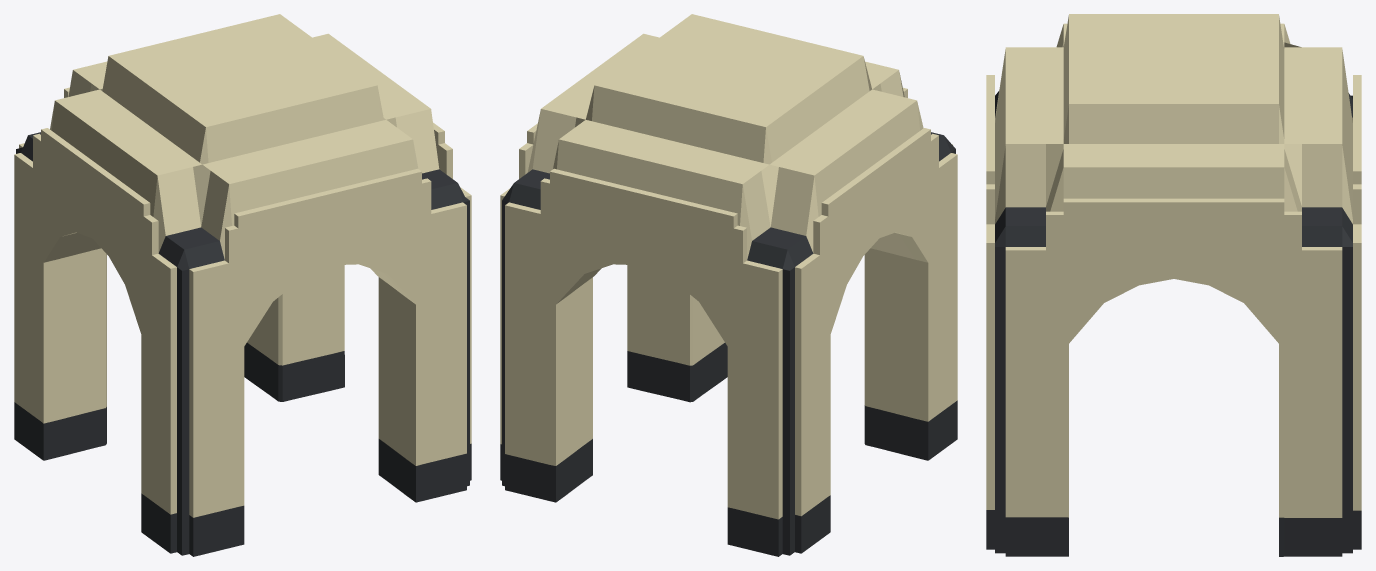
Rendered from Museo Revolucion CDMX.fbx.
3 renders of one model, left to right at view 1: azimuth 30°, elevation 25°; view 2: azimuth 150°, elevation 25°; view 3: azimuth 270°, elevation 25°, orthographic. The views are drawn at different scales.
Parts seen in each view (by area): view 1: Cube.001; view 2: Cube.001; view 3: Cube.001.
Part boxes in pixels (bbox=[...]): Cube.001: bbox=[14, 14, 471, 556]; Cube.001: bbox=[500, 14, 957, 556]; Cube.001: bbox=[986, 14, 1361, 556].
Bounding box in the file's own units: 3926 × 4843 × 3931.
